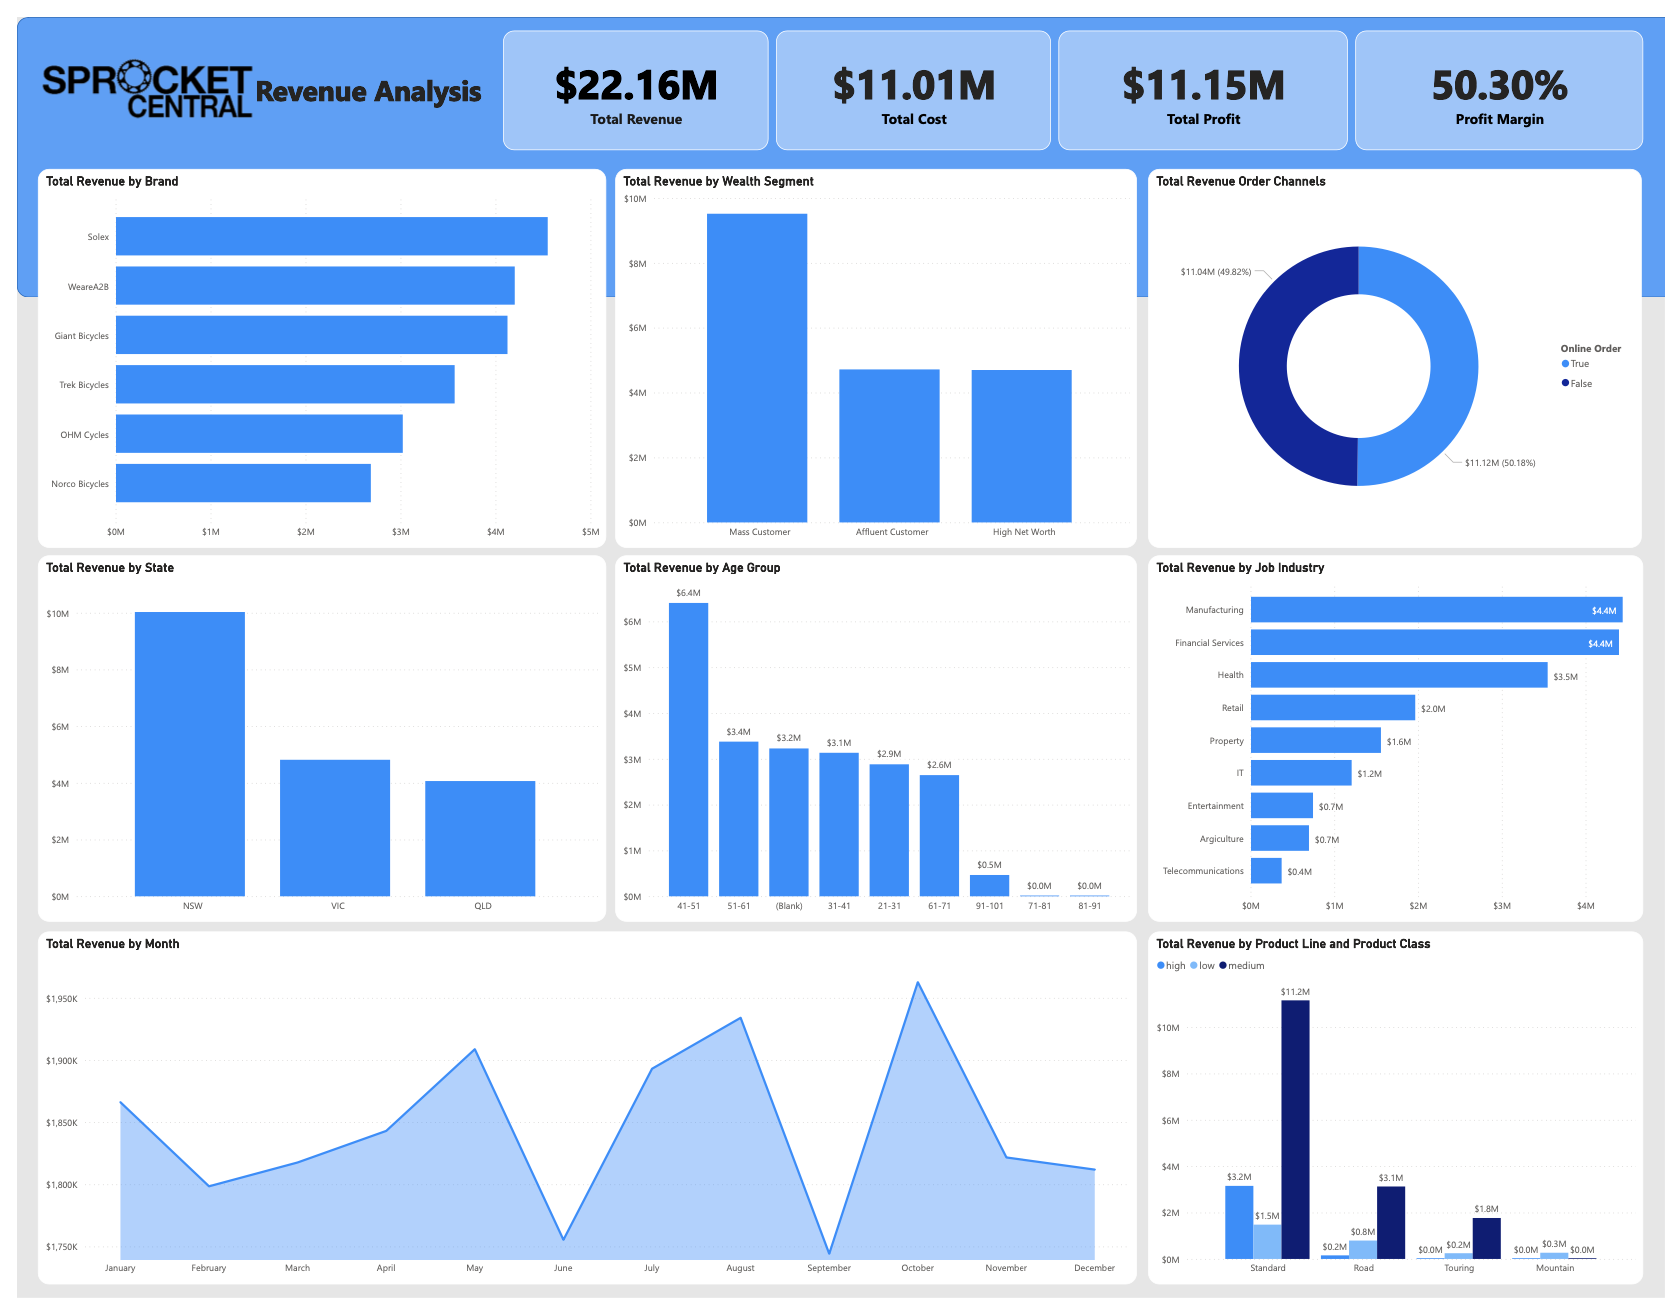

The dashboard page shown, as its layout file describes it:
{"tool":"powerbi","page":{"name":"Revenue Analysis Report","canvas":[2204,1713],"ordinal":0},"visuals":[{"type":"shape","box":[0,0,2282.5,375],"z":0},{"type":"areaChart","title":"Total Revenue by Month","fields":{"Category":["Transactions.transaction_date.Variation.Date Hierarchy.Month"],"Y":["Sum(Transactions.list_price)"]},"box":[27.5,1222.5,1470,472.5],"z":1000},{"type":"textbox","box":[292.5,50,370,95],"z":2000},{"type":"card","fields":{"Values":["Sum(Transactions.list_price)"]},"box":[650,17.5,355,160],"z":3000},{"type":"card","fields":{"Values":["Sum(Transactions.standard_cost)"]},"box":[1015,17.5,367.5,160],"z":4000},{"type":"barChart","title":"Total Revenue by Brand","fields":{"Category":["Transactions.brand"],"Y":["Sum(Transactions.list_price)"]},"box":[27.5,202.5,760,507.5],"z":6000},{"type":"columnChart","title":"Total Revenue by Wealth Segment","fields":{"Y":["Sum(Transactions.list_price)"],"Category":["CustomerDemographic.wealth_segment"]},"box":[800,202.5,697.5,507.5],"z":7000},{"type":"donutChart","title":"Total Revenue Order Channels","fields":{"Category":["Transactions.online_order"],"Y":["Sum(Transactions.list_price)"]},"box":[1512.5,202.5,660,507.5],"z":8000},{"type":"lineClusteredColumnComboChart","title":"Total Revenue by State","fields":{"Y":["Sum(Transactions.list_price)"],"Category":["CustomerAddress.state"]},"box":[27.5,720,760,490],"z":9000},{"type":"lineClusteredColumnComboChart","title":"Total Revenue by Age Group","fields":{"Category":["CustomerDemographic.age_group"],"Y":["Sum(Transactions.list_price)"]},"box":[800,720,697.5,490],"z":10000},{"type":"clusteredColumnChart","title":"Total Revenue by Product Line and Product Class","fields":{"Category":["Transactions.product_line"],"Y":["Sum(Transactions.list_price)"],"Series":["Transactions.product_class"]},"box":[1512.5,1222.5,662.5,472.5],"z":11000},{"type":"barChart","title":"Total Revenue by Job Industry","fields":{"Category":["CustomerDemographic.job_industry_category"],"Y":["Sum(Transactions.list_price)"]},"box":[1512.5,720,662.5,490],"z":12000},{"type":"image","box":[27.5,25,300,142.5],"z":14000},{"type":"card","fields":{"Values":["Transactions.profit"]},"box":[1392.5,17.5,387.5,160],"z":15000},{"type":"card","fields":{"Values":["Transactions.profit_margin"]},"box":[1790,17.5,385,160],"z":16000}]}

Visuals, with their boxes in screenshot pixels (x1, y1, x2, y2), scaled from the page's 2204x1713 canvas onto the 1680x1314 screenshot:
shape: [0,0,1679,288]
"Total Revenue by Month" areaChart: [21,938,1141,1300]
textbox: [223,38,505,111]
card - Sum(Transactions.list_price): [495,13,766,136]
card - Sum(Transactions.standard_cost): [774,13,1054,136]
"Total Revenue by Brand" barChart: [21,155,600,545]
"Total Revenue by Wealth Segment" columnChart: [610,155,1141,545]
"Total Revenue Order Channels" donutChart: [1153,155,1656,545]
"Total Revenue by State" lineClusteredColumnComboChart: [21,552,600,928]
"Total Revenue by Age Group" lineClusteredColumnComboChart: [610,552,1141,928]
"Total Revenue by Product Line and Product Class" clusteredColumnChart: [1153,938,1658,1300]
"Total Revenue by Job Industry" barChart: [1153,552,1658,928]
image: [21,19,250,128]
card - Transactions.profit: [1061,13,1357,136]
card - Transactions.profit_margin: [1364,13,1658,136]
